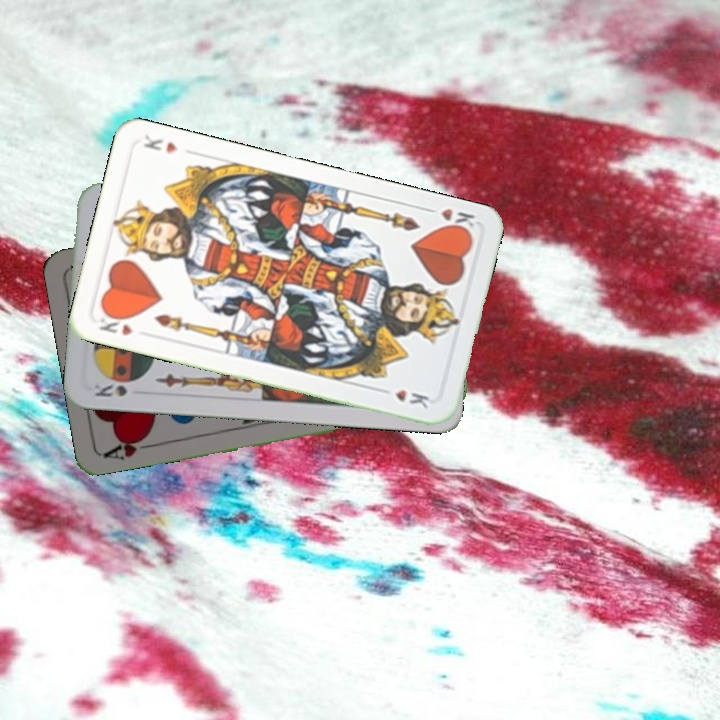HA: (100, 430, 159, 463)
HK: (420, 203, 477, 237), (95, 308, 135, 339)
SK: (88, 379, 130, 400)
